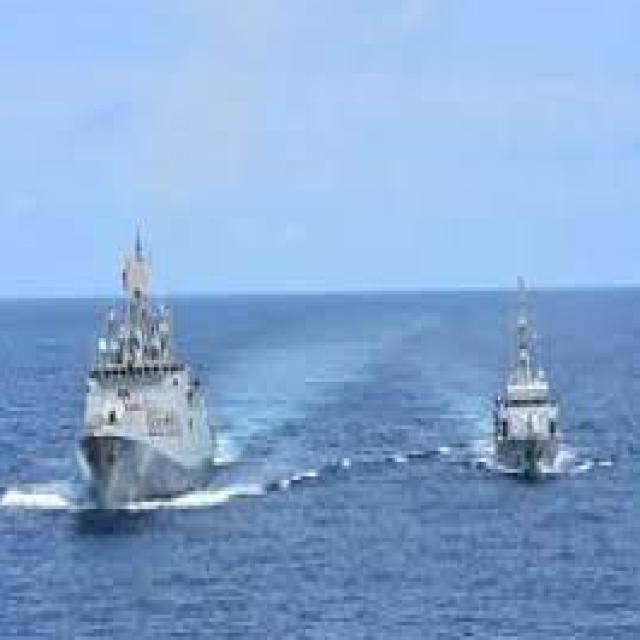navalvessels: (78, 218, 208, 510), (481, 284, 579, 480)
